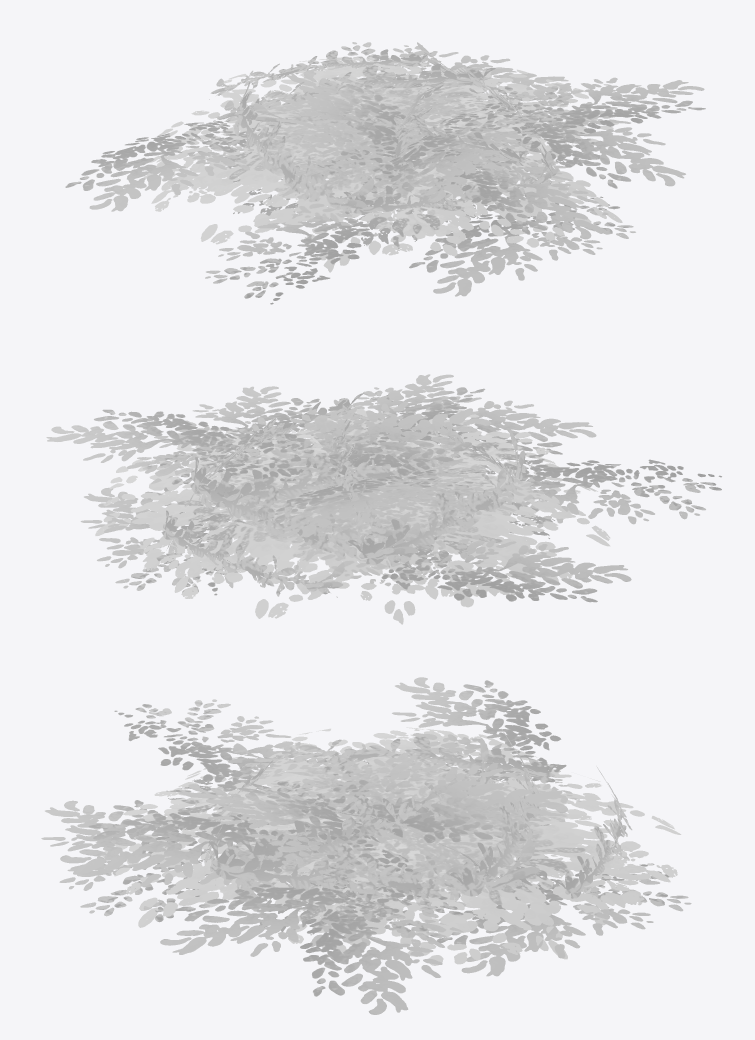
File: moss.fbx
3 renders of one model, top to bottom at view 1: azimuth 30°, elevation 25°; view 2: azimuth 150°, elevation 25°; view 3: azimuth 270°, elevation 25°, orthographic. The views are drawn at different scales.
Parts seen in each view (by area): view 1: plant; view 2: plant; view 3: plant.
Part boxes in pixels (x1,y1,x2,y2): plant: (65,42,705,304); plant: (46,374,721,624); plant: (41,677,691,1014).
Size of the model in its own units: 272 by 36.02 by 241.
